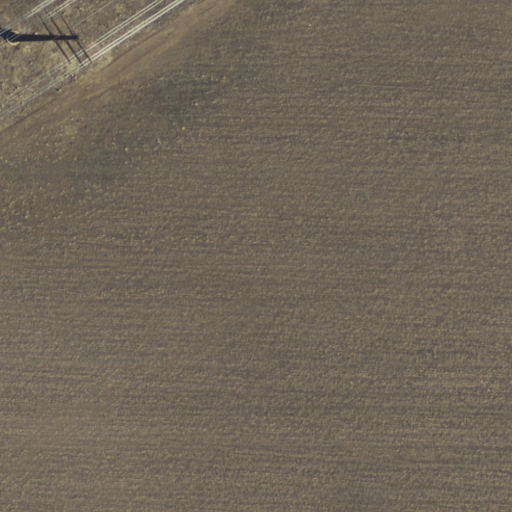TT: (4, 12, 96, 68)
